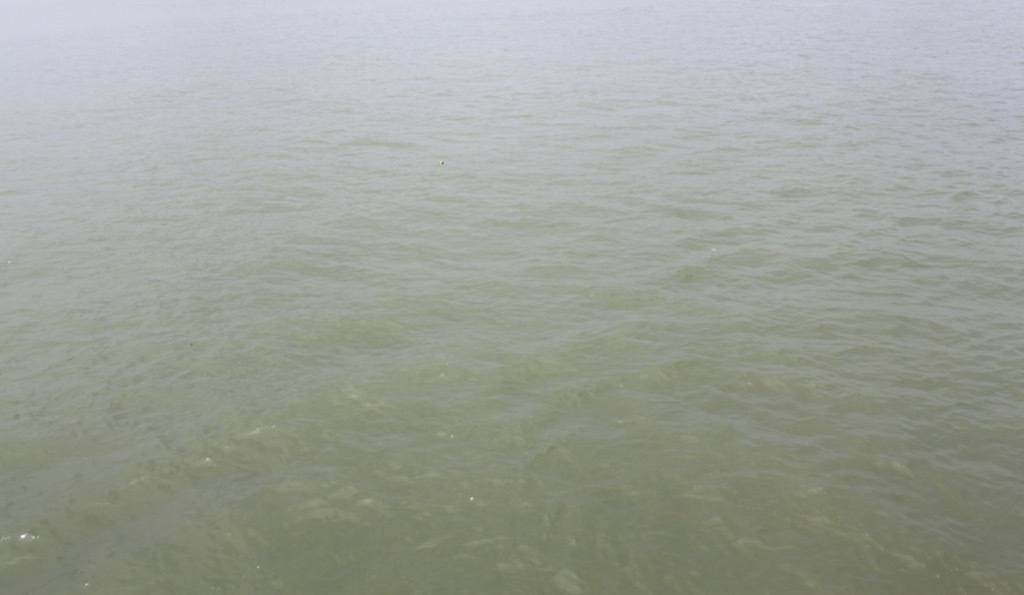plastic: (430, 149, 453, 176)
